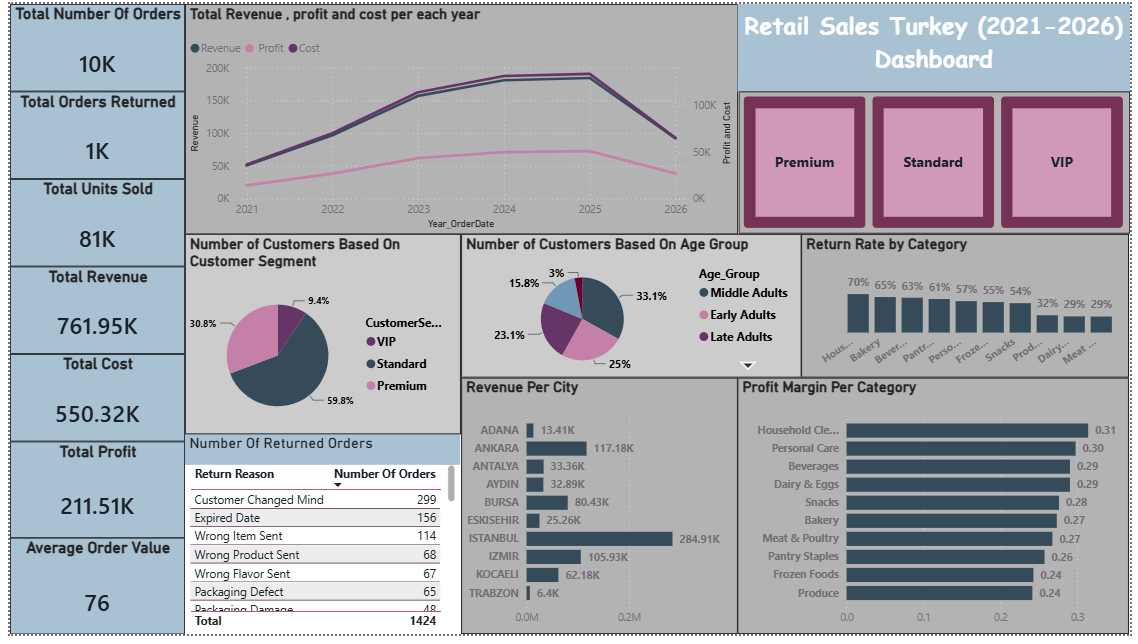

The dashboard page shown, as its layout file describes it:
{"tool":"powerbi","page":{"name":"Page 1","canvas":[1280,720],"ordinal":0},"visuals":[{"type":"cardVisual","title":"Total Number Of Orders","fields":{"Data":["categories.Total Orders"]},"box":[0,0,200,100],"z":0},{"type":"cardVisual","title":"Total Orders Returned","fields":{"Data":["categories.Orders Returned"]},"box":[0,100,200,100],"z":1000},{"type":"cardVisual","title":"Total Revenue ","fields":{"Data":["Sum(order_details.Revenue)"]},"box":[0,300,200,100],"z":2000},{"type":"cardVisual","title":"Total Cost ","fields":{"Data":["Sum(order_details.TotalCost)"]},"box":[0,400,200,100],"z":3000},{"type":"cardVisual","title":"Total Profit ","fields":{"Data":["Sum(order_details.Profit)"]},"box":[0,500,200,110],"z":4000},{"type":"cardVisual","title":"Total Units Sold ","fields":{"Data":["Sum(order_details.Quantity)"]},"box":[0,200,200,100],"z":5000},{"type":"tableEx","title":"Number Of Returned Orders","fields":{"Values":["order_details.ReturnReason","CountNonNull(order_details.IsReturned)"]},"box":[200,491.4,314,228],"z":6000},{"type":"pieChart","title":"Number of Customers Based On Age Group","fields":{"Category":["customers.Age_Group"],"Y":["CountNonNull(customers.CustomerID)"]},"box":[515.7,262.9,388.6,164.3],"z":7000},{"type":"pieChart","title":"Number of Customers Based On Customer Segment","fields":{"Y":["CountNonNull(customers.CustomerID)"],"Category":["customers.CustomerSegment"]},"box":[199.3,262.9,315.5,228.7],"z":8000},{"type":"lineChart","title":"Total Revenue , profit and cost per each year","fields":{"Category":["orders.Year_OrderDate"],"Y":["Sum(order_details.Revenue)"],"Y2":["Sum(order_details.Profit)","Sum(order_details.TotalCost)"]},"box":[200,0,631.7,263.3],"z":9000},{"type":"barChart","title":"Revenue Per City","fields":{"Category":["customers.City"],"Y":["categories.Revenue"]},"box":[515.7,427.1,315.7,292.9],"z":10000},{"type":"barChart","title":"Profit Margin Per Category","fields":{"Category":["categories.CategoryName"],"Y":["categories.Profitmargin"]},"box":[831.4,427.1,447.1,292.9],"z":11000},{"type":"cardVisual","title":"Average Order Value","fields":{"Data":["categories.AverageOrderValue"]},"box":[0,610,200,110],"z":13000},{"type":"textbox","box":[831.5,0,448.6,100],"z":14000},{"type":"advancedSlicerVisual","fields":{"Values":["customers.CustomerSegment"]},"box":[832.7,100.3,447.6,162.6],"z":15000},{"type":"columnChart","title":"Return Rate by Category","fields":{"Category":["categories.CategoryName"],"Y":["categories.ReturnRate"]},"box":[904.9,262.9,374.2,163.9],"z":15001}]}

Visuals, with their boxes in screenshot pixels (x1, y1, x2, y2), scaled from the page's 1280x720 canvas onto the 1138x644 screenshot:
"Total Number Of Orders" cardVisual: 0,0,178,89
"Total Orders Returned" cardVisual: 0,89,178,179
"Total Revenue " cardVisual: 0,268,178,358
"Total Cost " cardVisual: 0,358,178,447
"Total Profit " cardVisual: 0,447,178,546
"Total Units Sold " cardVisual: 0,179,178,268
"Number Of Returned Orders" tableEx: 178,440,457,643
"Number of Customers Based On Age Group" pieChart: 458,235,804,382
"Number of Customers Based On Customer Segment" pieChart: 177,235,458,440
"Total Revenue , profit and cost per each year" lineChart: 178,0,739,236
"Revenue Per City" barChart: 458,382,739,643
"Profit Margin Per Category" barChart: 739,382,1137,643
"Average Order Value" cardVisual: 0,546,178,643
textbox: 739,0,1137,89
advancedSlicerVisual - customers.CustomerSegment: 740,90,1137,235
"Return Rate by Category" columnChart: 805,235,1137,382
